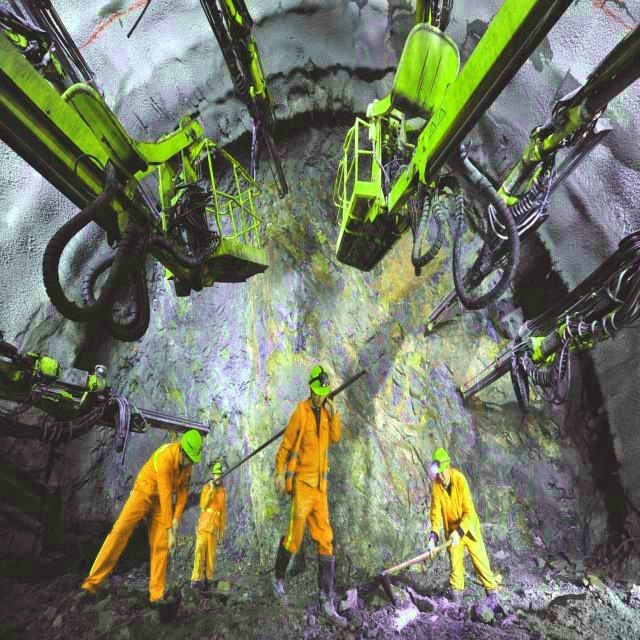Con_Casco: (181, 426, 203, 472), (308, 364, 330, 399), (430, 446, 450, 481)
Con_Chaleco: (289, 402, 331, 494)
